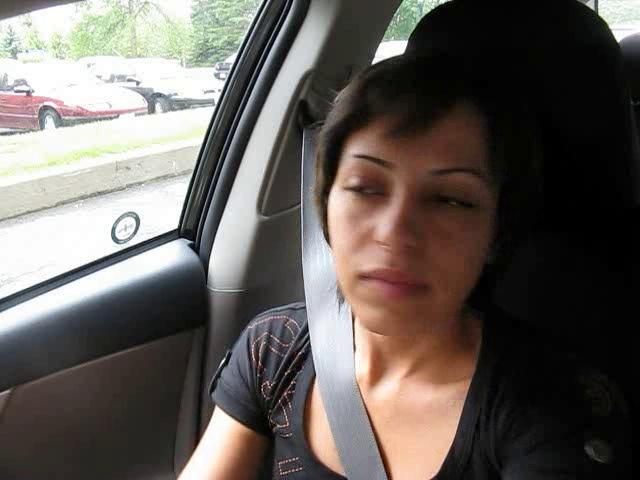close_eyeL: (331, 168, 395, 214)
close_eyeR: (408, 179, 497, 228)
no_yawn: (335, 255, 445, 313)
